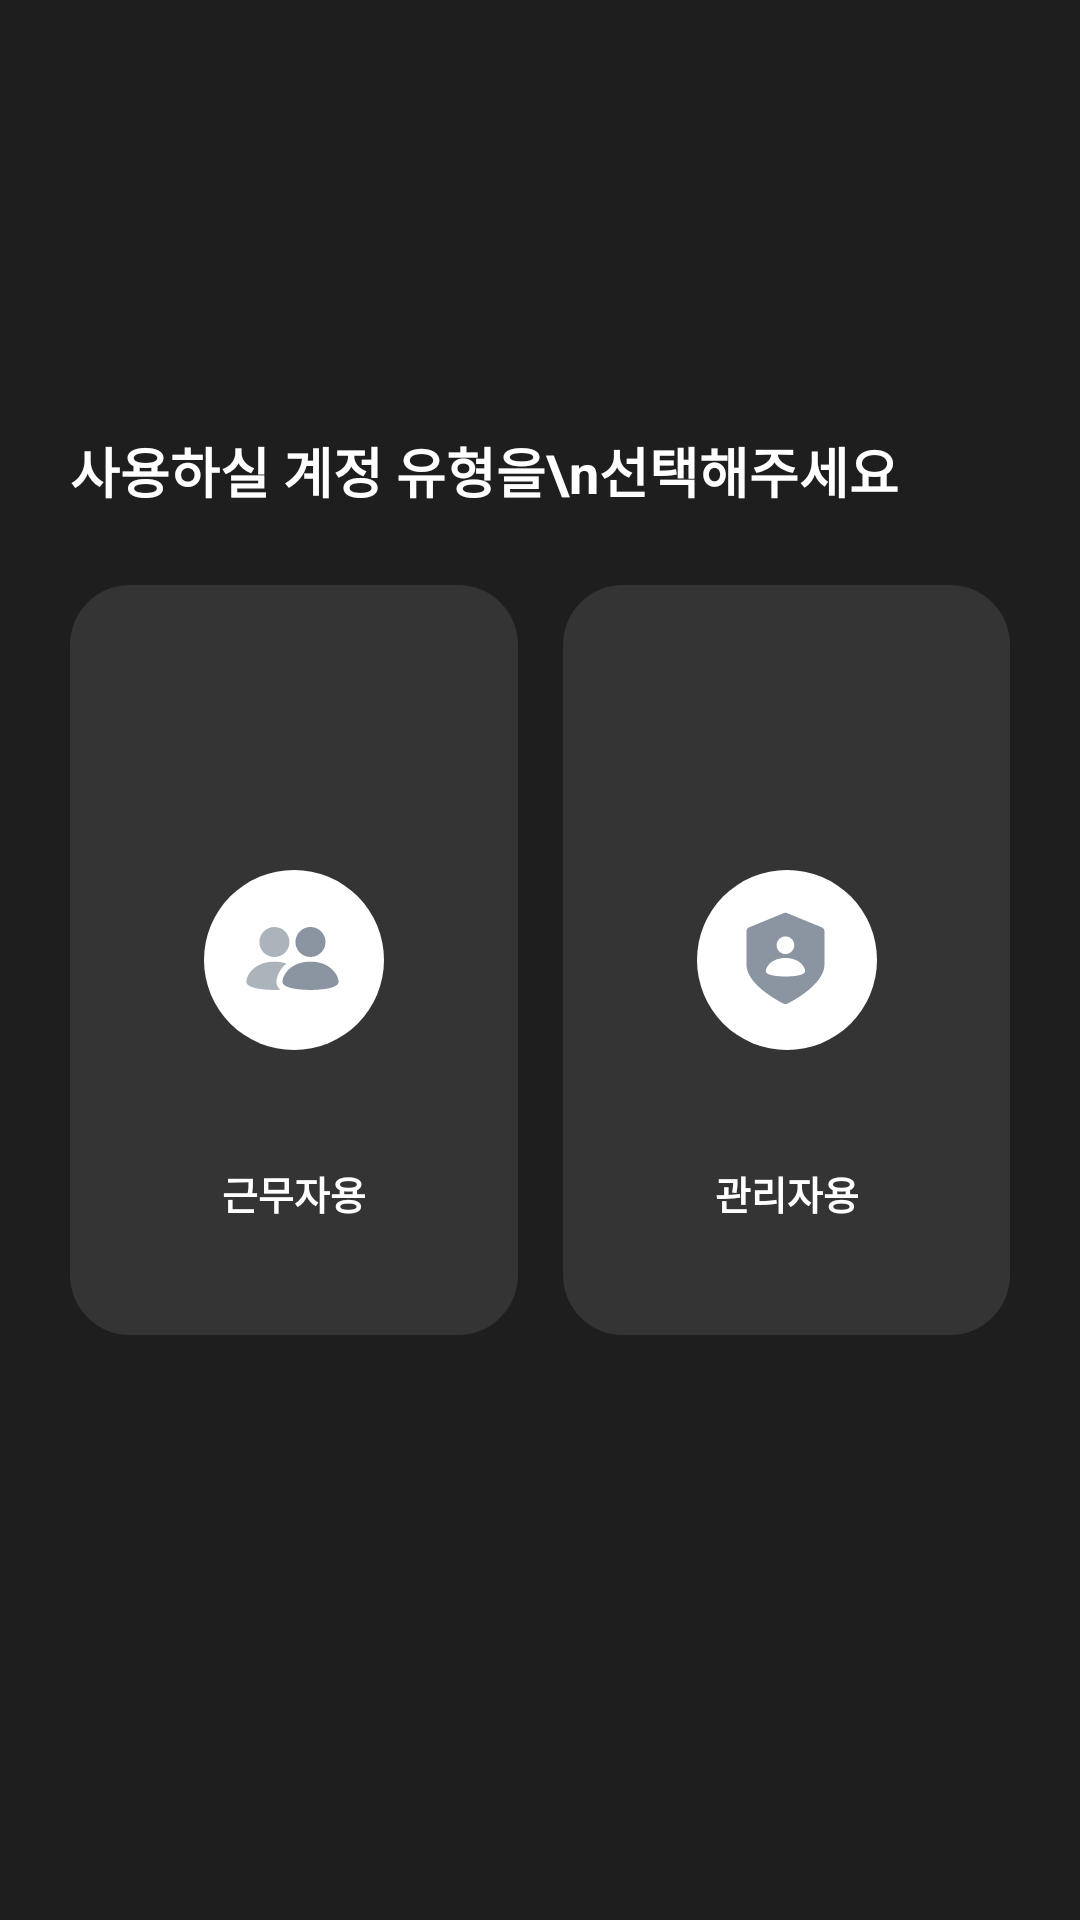

Locate icon controls on the screen. Image size 1080*1920, boxes as (x1, y1, x2, y2).
admin: (697, 870, 877, 1050)
user: (204, 870, 384, 1050)
